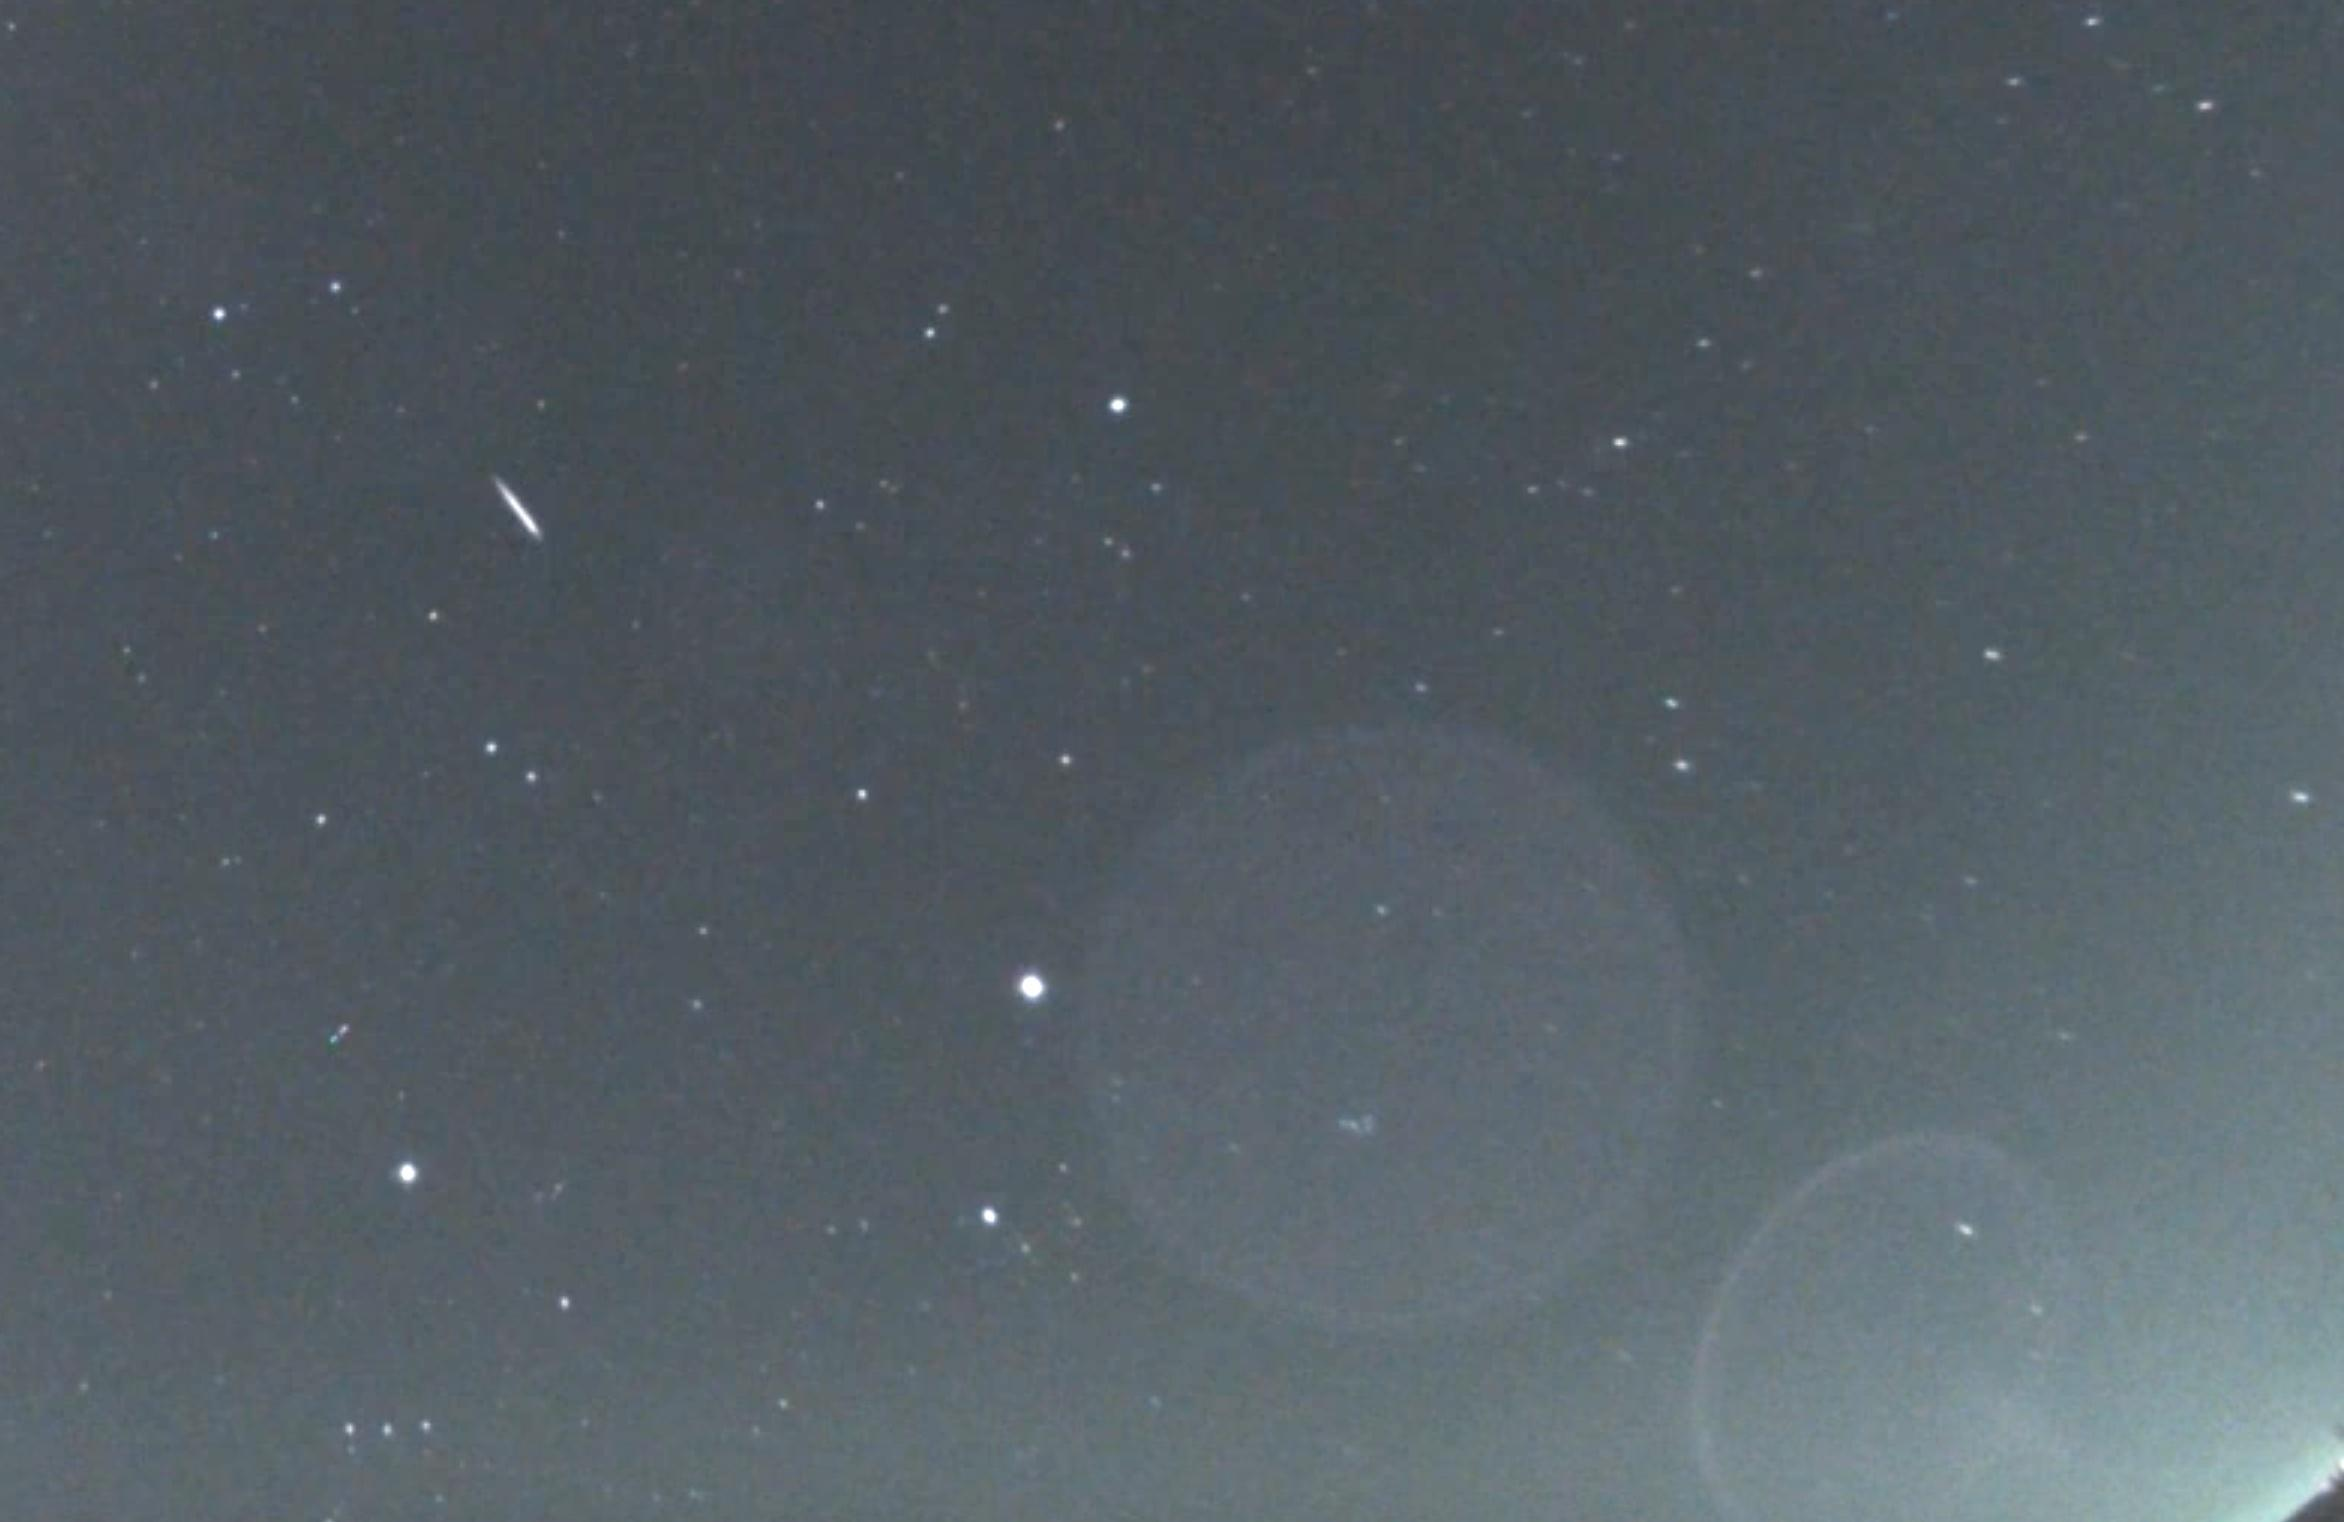meteorite: (420, 470, 601, 547)
